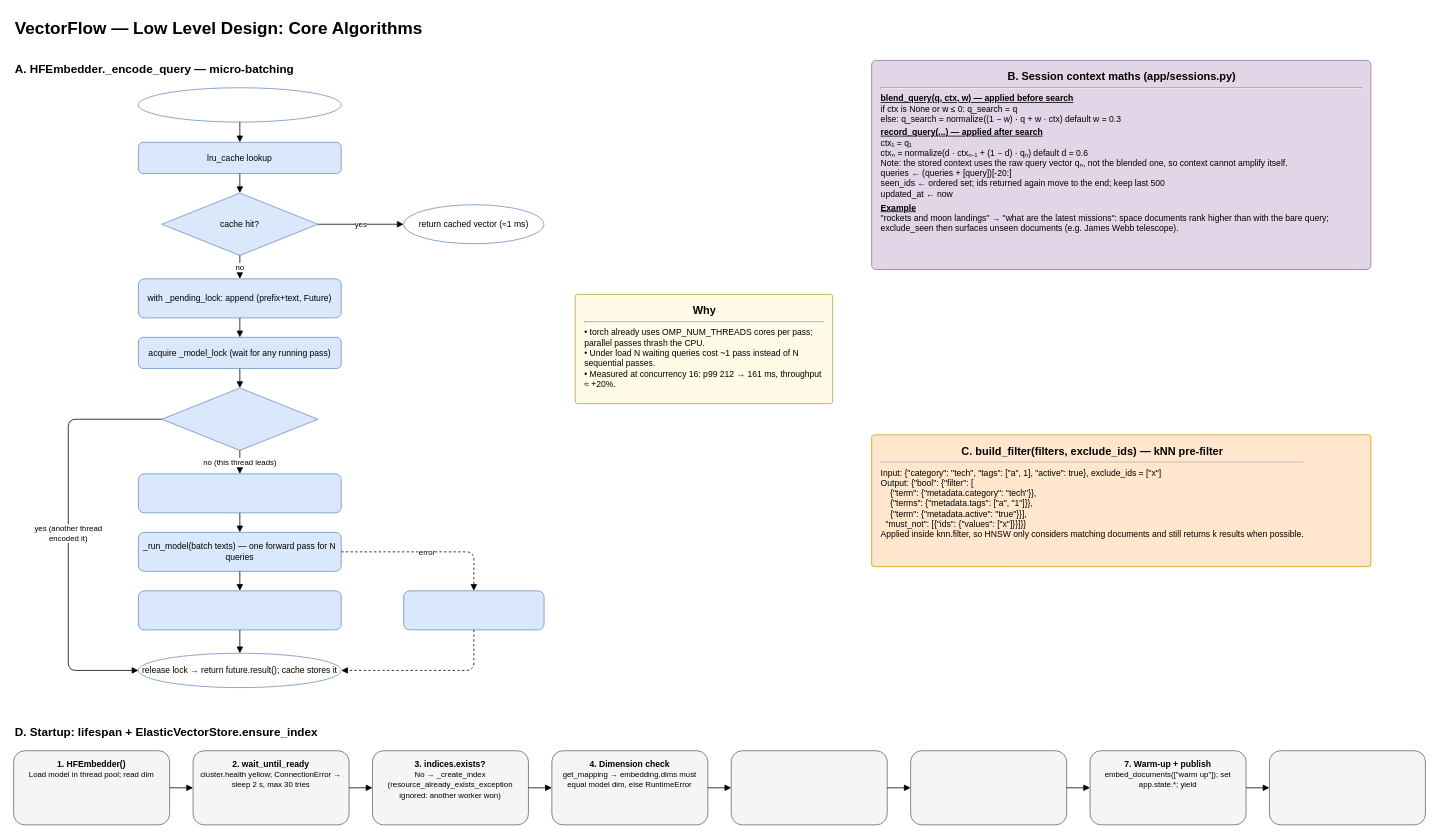
The diagram is 1439 pixels wide and 838 high, and some of its shapes have lost their labels. The shapes that lost their labels are listed below. From the top down, each one's centre as x and y in pixels, then its label:
At [239,104]: "embed_query(text)".
At [239,418]: "own Future already done?".
At [239,493]: "with _pending_lock: batch = all pending; pending = []".
At [239,610]: "for each (Future, vec): vec read-only, set_result".
At [473,610]: "on exception: set_exception on every Future".
At [808,787]: "5. Index health cluster.health(index, yellow, 30 s)".
At [988,787]: "6. Session store RedisSessionStore(url, ttl) or InMemorySessionStore(ttl)".
At [1347,787]: "8. Shutdown AsyncExitStack closes Redis and ES clients (also on failed startup)".
